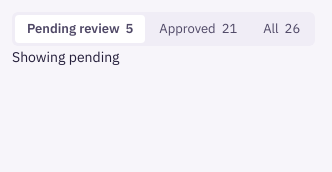
Test: Tabs › switches on click
The image size is (332, 172).
What coordinates should you click on to do the following:
click the tab "All 26"
I would click on:
 (282, 29)
Its box is x1=251 y1=15 x2=312 y2=43.
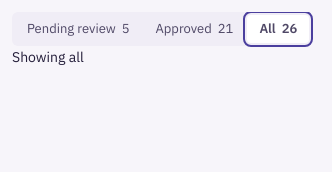
Result: the panel reads "Showing all" at x1=12 y1=48 x2=84 y2=66
